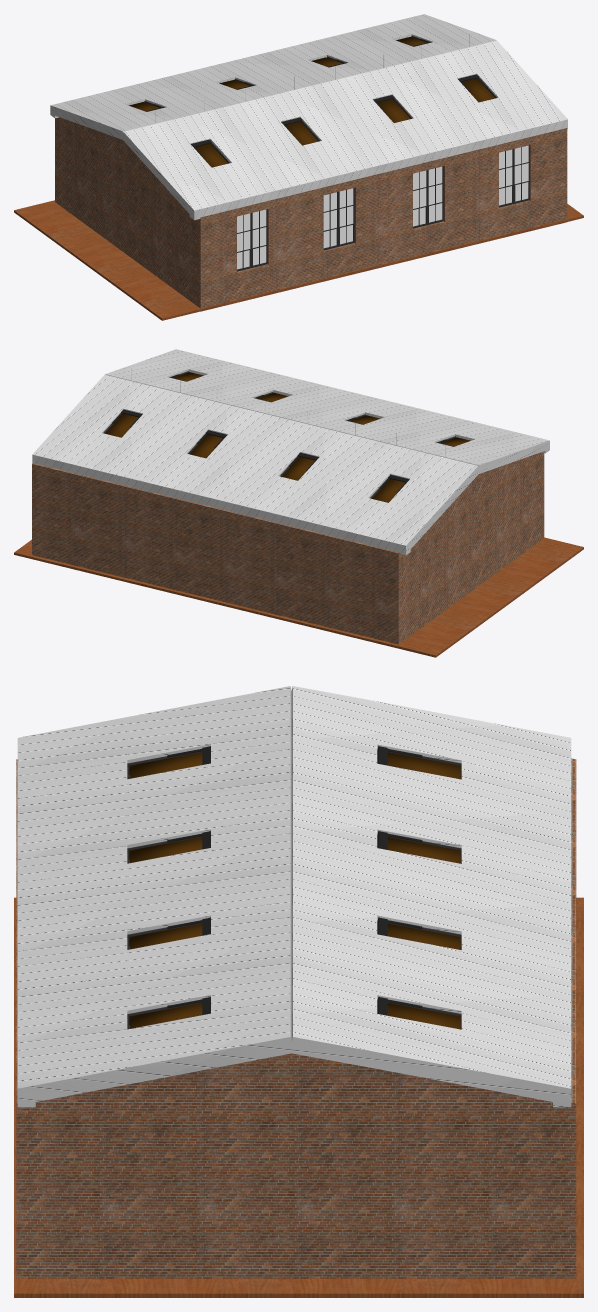
File: loft_scene_03.gltf
3 views of the same model, one above another, from view 1: azimuth 30°, elevation 25°; view 2: azimuth 150°, elevation 25°; view 3: azimuth 270°, elevation 25° (orthographic). The views are drawn at different scales.
Parts seen in each view (by area): view 1: Line877524582, Rectangle754610, Box230, modern_82_800_steklo009, modern_82_800_steklo005, modern_82_800_steklo002, modern_82_800_steklo007, Box583, Box589, Box586, Box592, modern_82_800_steklo003 (+7 smaller); view 2: Line877524582, Rectangle754610, Box230, Box229, Box243, Box247, Box245; view 3: Line877524582, Rectangle754610, Box230, Box247, Box251, Box245, Box243, Box229, Box248, Box254, Box253.
Boxes of the visible parts, <box> form: Line877524582: <box>50,14,567,220</box>; Rectangle754610: <box>55,117,567,311</box>; Box230: <box>14,200,583,320</box>; modern_82_800_steklo009: <box>499,145,528,187</box>; modern_82_800_steklo005: <box>237,209,266,251</box>; modern_82_800_steklo002: <box>323,188,353,230</box>; modern_82_800_steklo007: <box>413,166,442,208</box>; Box583: <box>323,188,354,249</box>; Box589: <box>413,166,443,228</box>; Box586: <box>237,209,267,271</box>; Box592: <box>499,145,529,207</box>; modern_82_800_steklo003: <box>323,225,352,248</box>; Line877524582: <box>32,349,549,555</box>; Rectangle754610: <box>32,450,544,644</box>; Box230: <box>14,537,583,657</box>; Box229: <box>189,434,222,458</box>; Box243: <box>105,413,137,437</box>; Box247: <box>372,479,405,502</box>; Box245: <box>281,457,314,480</box>; Line877524582: <box>17,686,571,1107</box>; Rectangle754610: <box>16,758,576,1278</box>; Box230: <box>14,897,583,1297</box>; Box247: <box>387,752,460,779</box>; Box251: <box>129,752,202,778</box>; Box245: <box>387,837,460,863</box>; Box243: <box>387,1003,460,1029</box>; Box229: <box>387,923,460,949</box>; Box248: <box>129,837,202,863</box>; Box254: <box>129,1003,202,1028</box>; Box253: <box>129,923,202,949</box>.
Bounding box in the file's own units: 14.49 × 4.68 × 8.81.
Materials: 14 (3 with a texture image).
